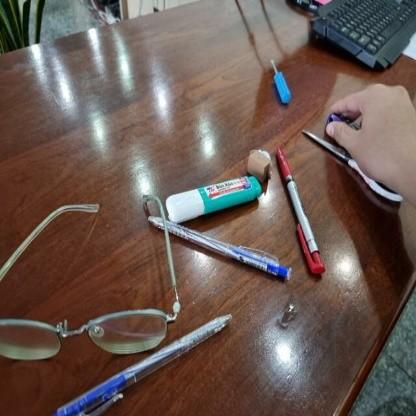not trash: (3, 197, 182, 362), (52, 312, 235, 416), (141, 206, 294, 288), (301, 126, 403, 202), (270, 143, 326, 281), (165, 174, 261, 224), (260, 51, 298, 107), (243, 147, 274, 182)
